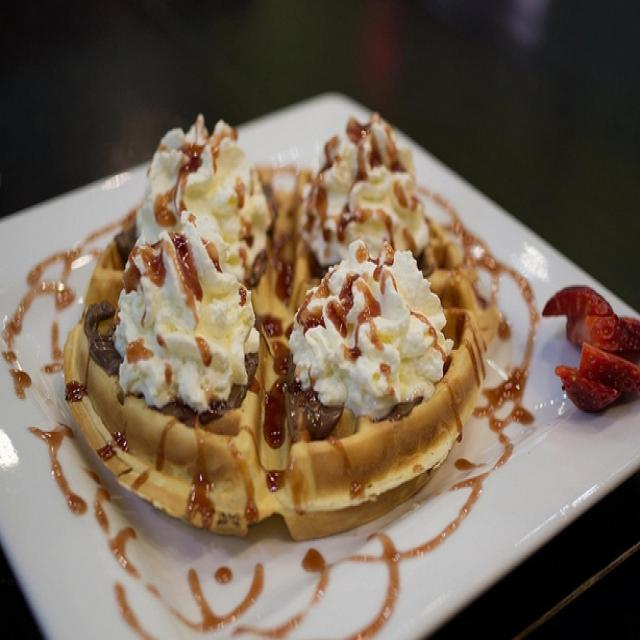炸货点心: (25, 74, 577, 596)
蛋糕甜品: (25, 74, 577, 596)
